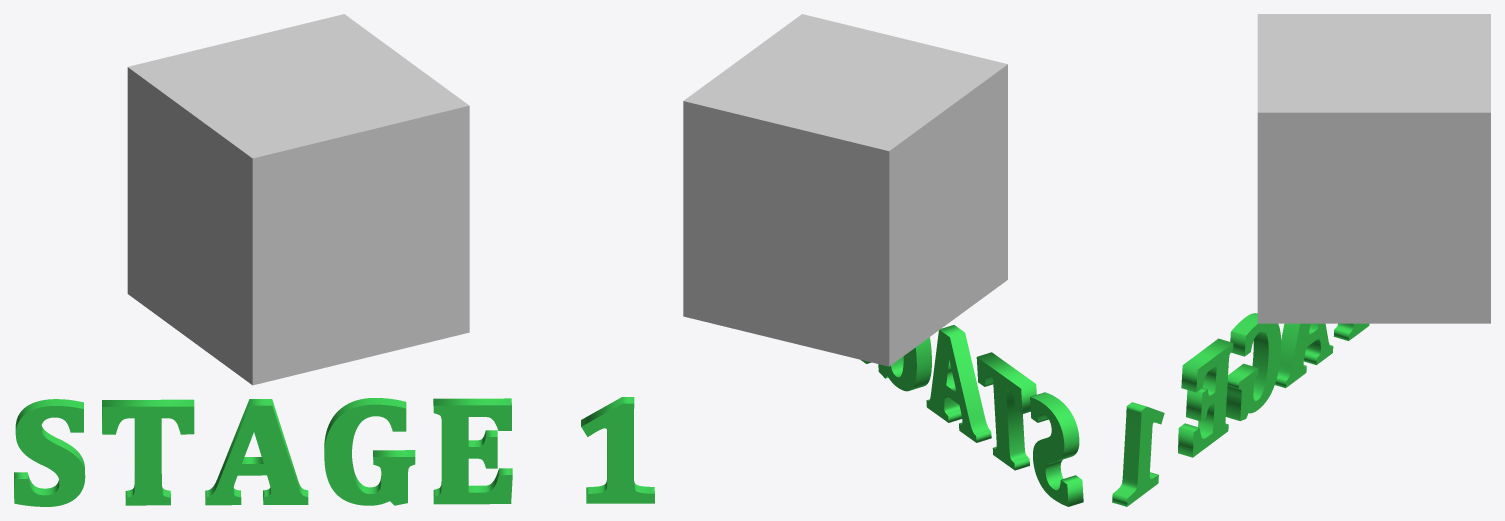
The model's file is Stage1.glb.
3 renders of one model, left to right at view 1: azimuth 30°, elevation 25°; view 2: azimuth 150°, elevation 25°; view 3: azimuth 270°, elevation 25°, orthographic. The views are drawn at different scales.
Parts seen in each view (by area): view 1: Cube, Text; view 2: Cube, Text; view 3: Cube, Text.
Boxes of the visible parts, x1=… form: Cube: x1=127, y1=14, x2=469, y2=385; Text: x1=14, y1=397, x2=654, y2=506; Cube: x1=683, y1=14, x2=1007, y2=366; Text: x1=860, y1=325, x2=1083, y2=506; Cube: x1=1257, y1=14, x2=1490, y2=323; Text: x1=1112, y1=313, x2=1369, y2=506.
Bounding box in the file's own units: 4.53 × 3.25 × 3.25.
